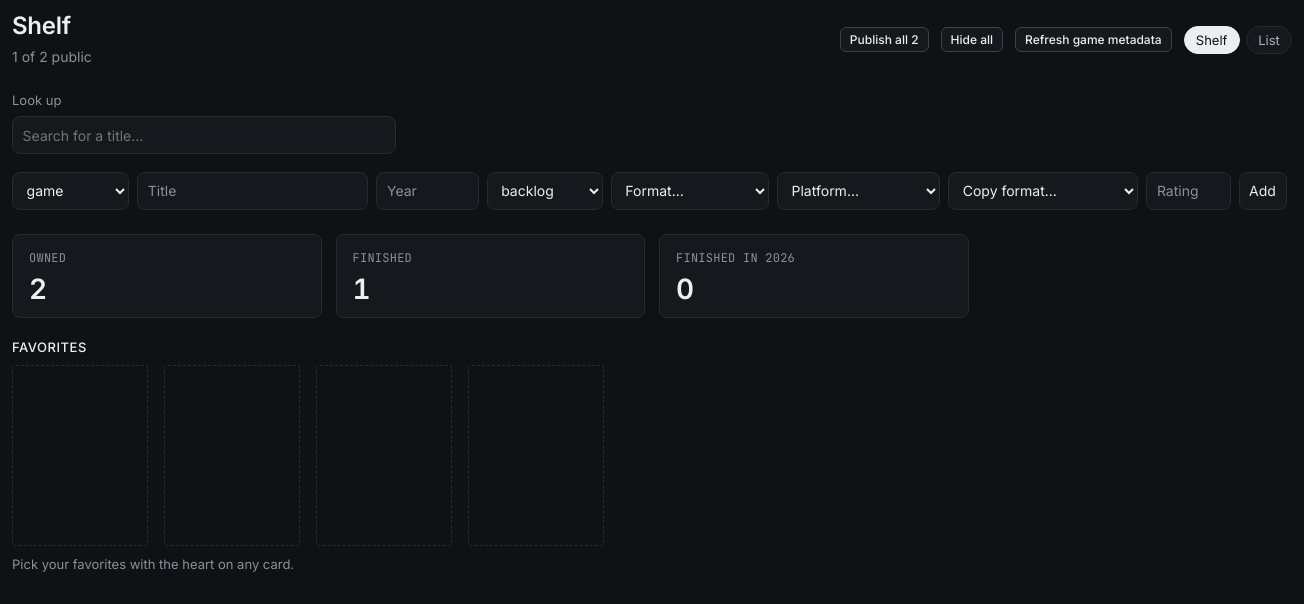
AdminCollection metadata refresh › refreshes the games and reports the counts
Click the button "Refresh game metadata" at coordinates (1093, 40), box x1=1015 y1=27 x2=1172 y2=52
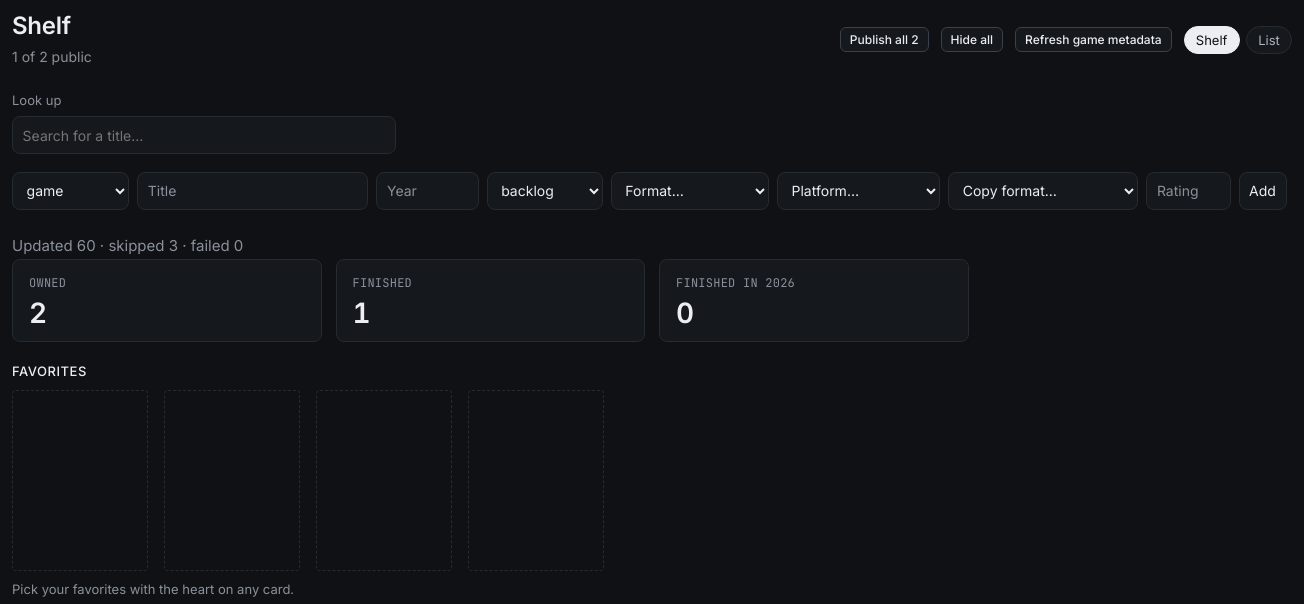
Now the text "Updated 60 · skipped 3 · failed 0" is shown, box x1=12 y1=236 x2=243 y2=255
